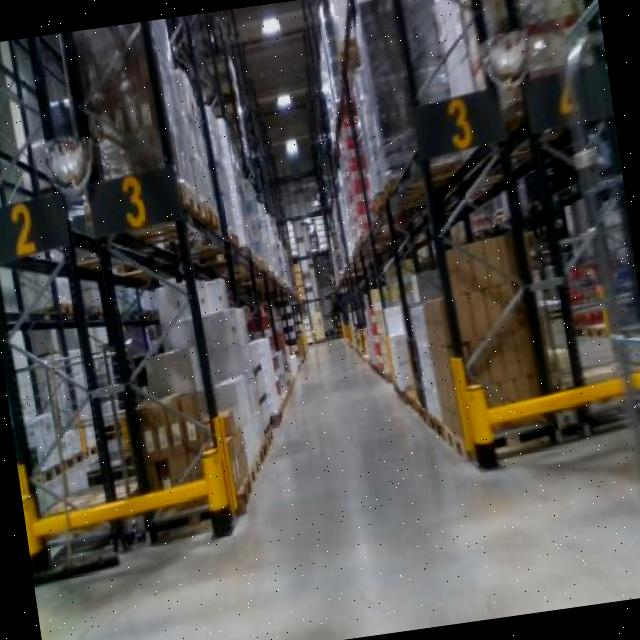pallet: (167, 176, 230, 246), (434, 421, 474, 466), (228, 464, 260, 519), (243, 442, 270, 485)
